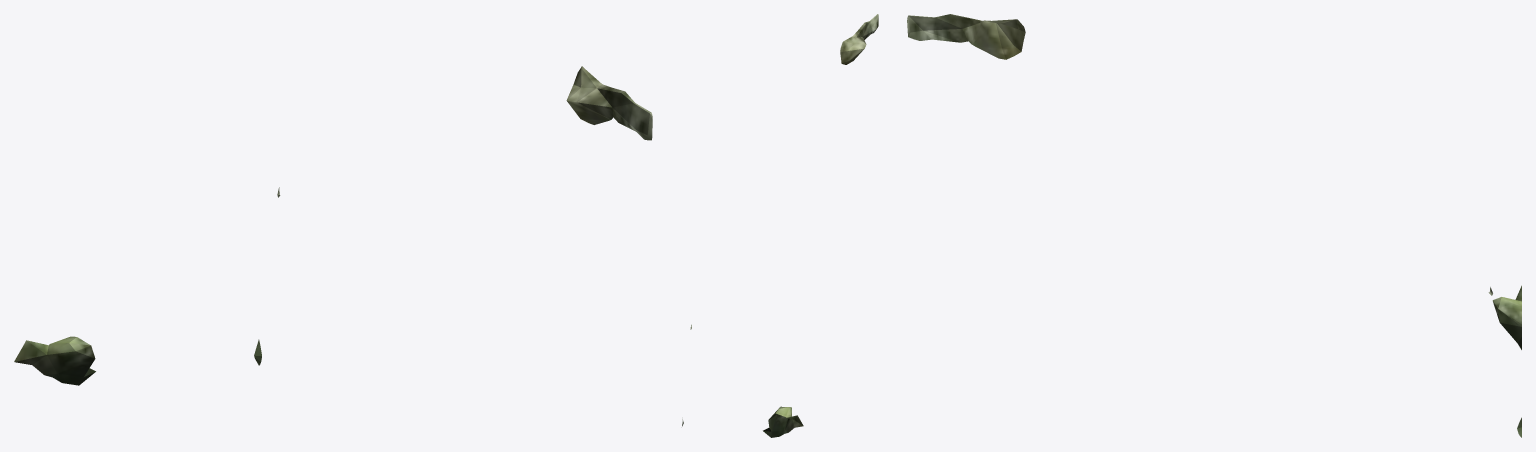
The picture shows the model from 3 angles, left to right: view 1: azimuth 30°, elevation 25°; view 2: azimuth 150°, elevation 25°; view 3: azimuth 270°, elevation 25°; orthographic projection. The views are drawn at different scales.
Size of the model in its own units: 3.64 by 7.71 by 10.14.
Materials: 1 (1 with a texture image).
